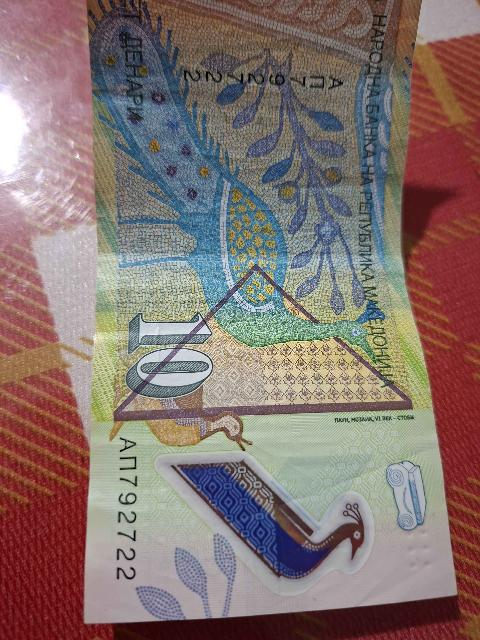10_note: (77, 0, 464, 629)
